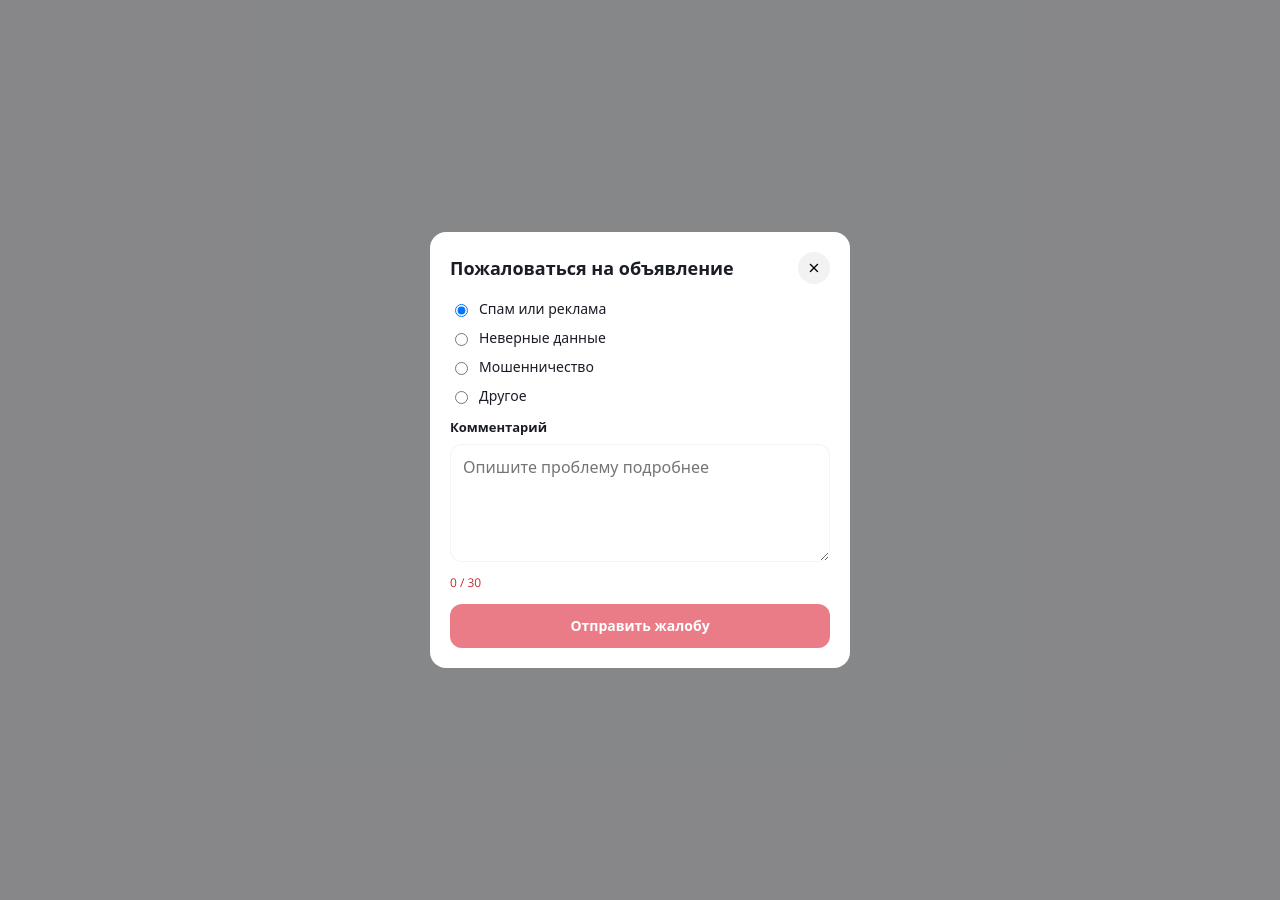
Scenario: ListingReportModal › requires at least 30 characters before submit
This screenshot has width=1280, height=900.
Expected: the button with class "listing-report-modal__submit" is disabled, [450,604,830,648]
Type "короткий текст" into the text box with class "listing-report-modal__comment" at (640, 503), box [450,444,830,562]
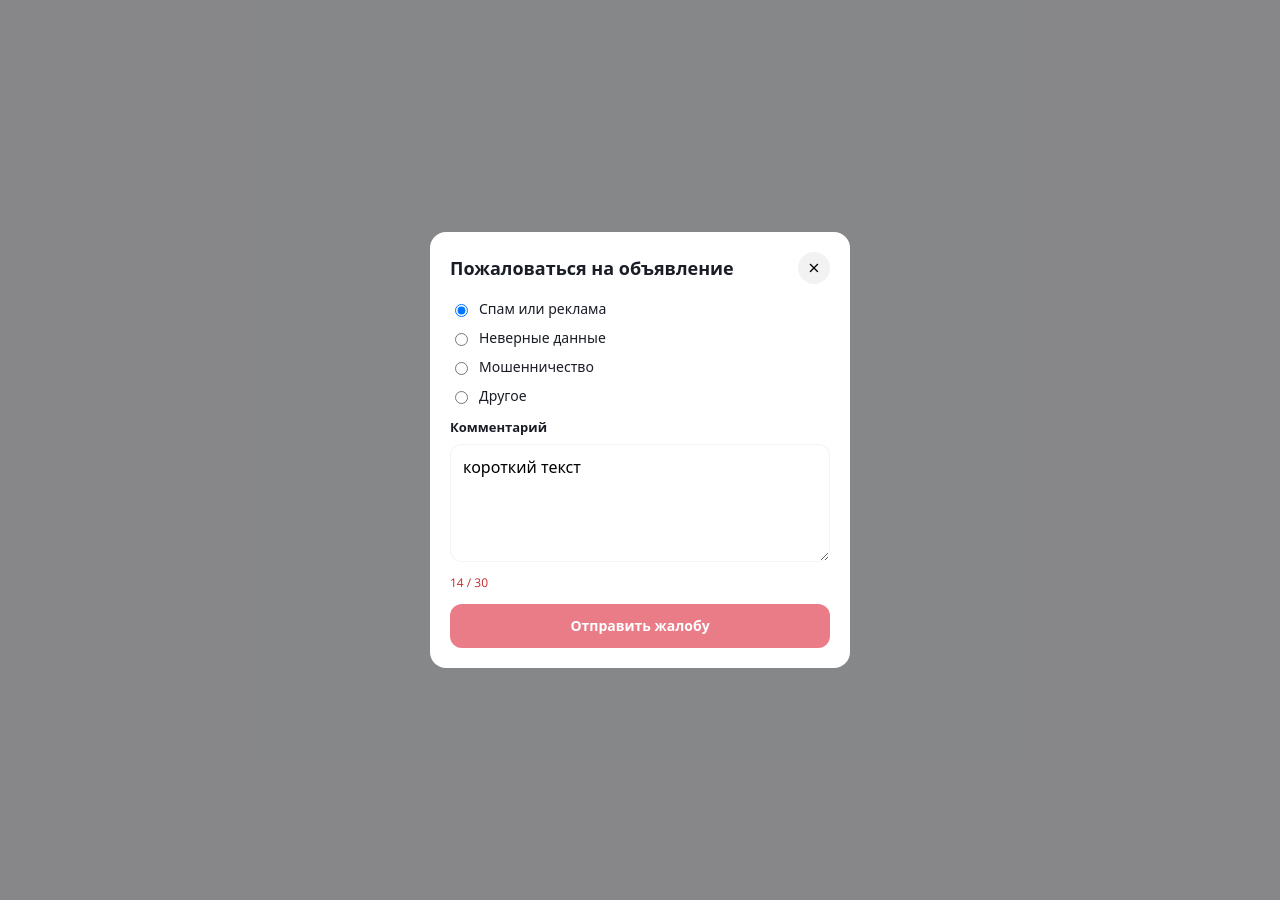
Expected: the button with class "listing-report-modal__submit" is disabled, [450,604,830,648]
Replace the text in the text box with class "listing-report-modal__comment" with "Это подробный комментарий к жалобе на объявление." at (640, 503), box [450,444,830,562]
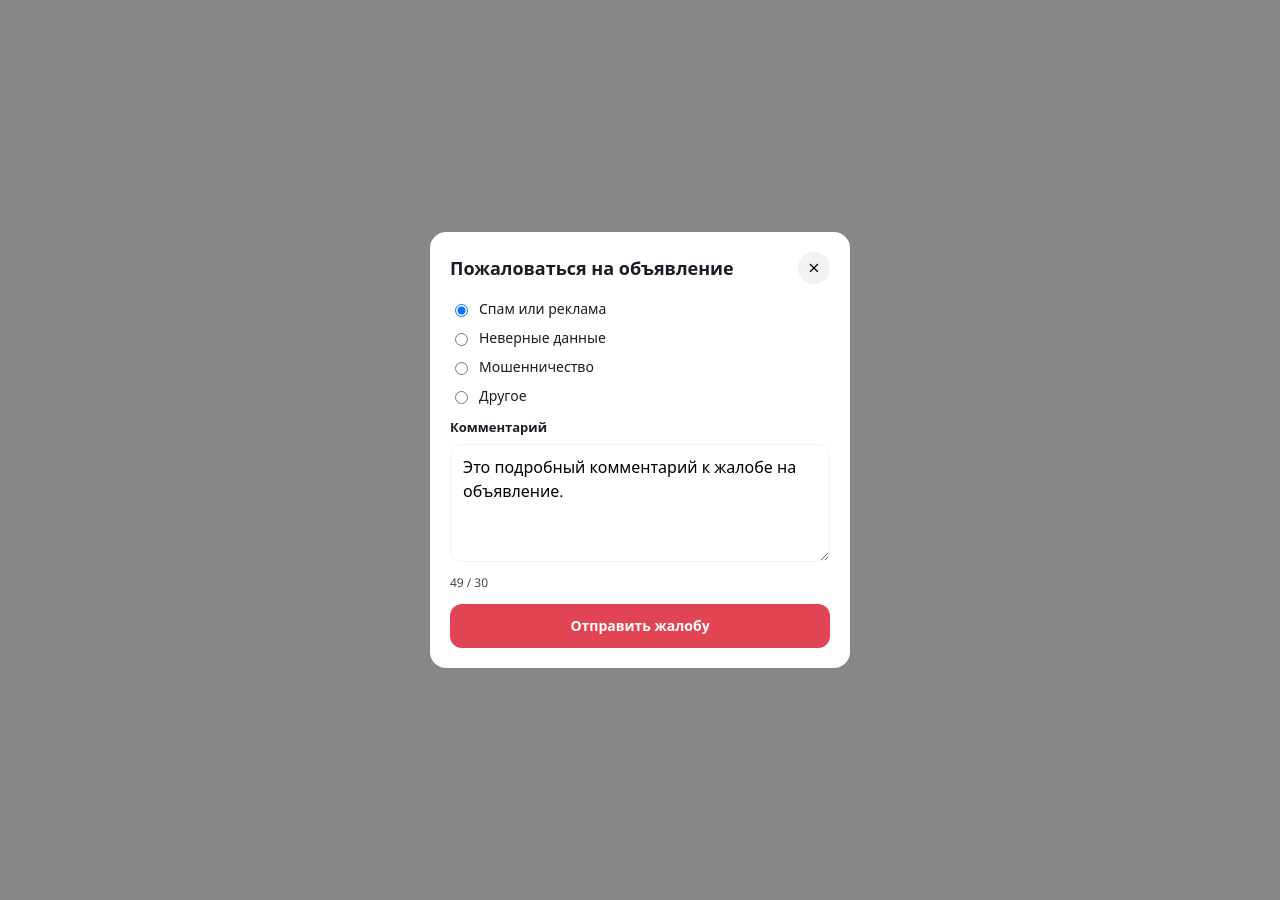
Now the button with class "listing-report-modal__submit" is enabled
Click the button with class "listing-report-modal__submit" at (640, 626), box [450,604,830,648]
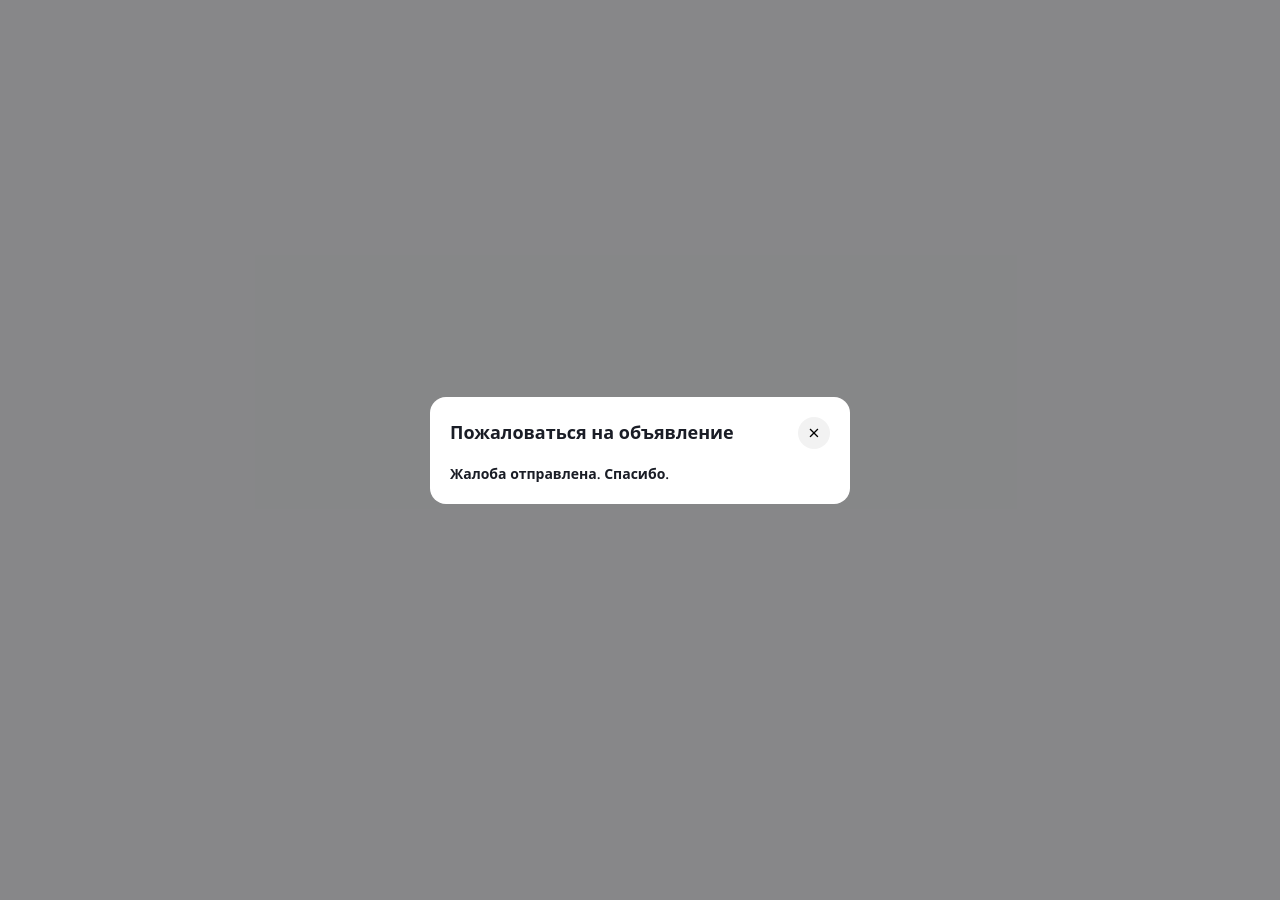
Now the text "Жалоба отправлена" is shown, box [450,464,669,482]
